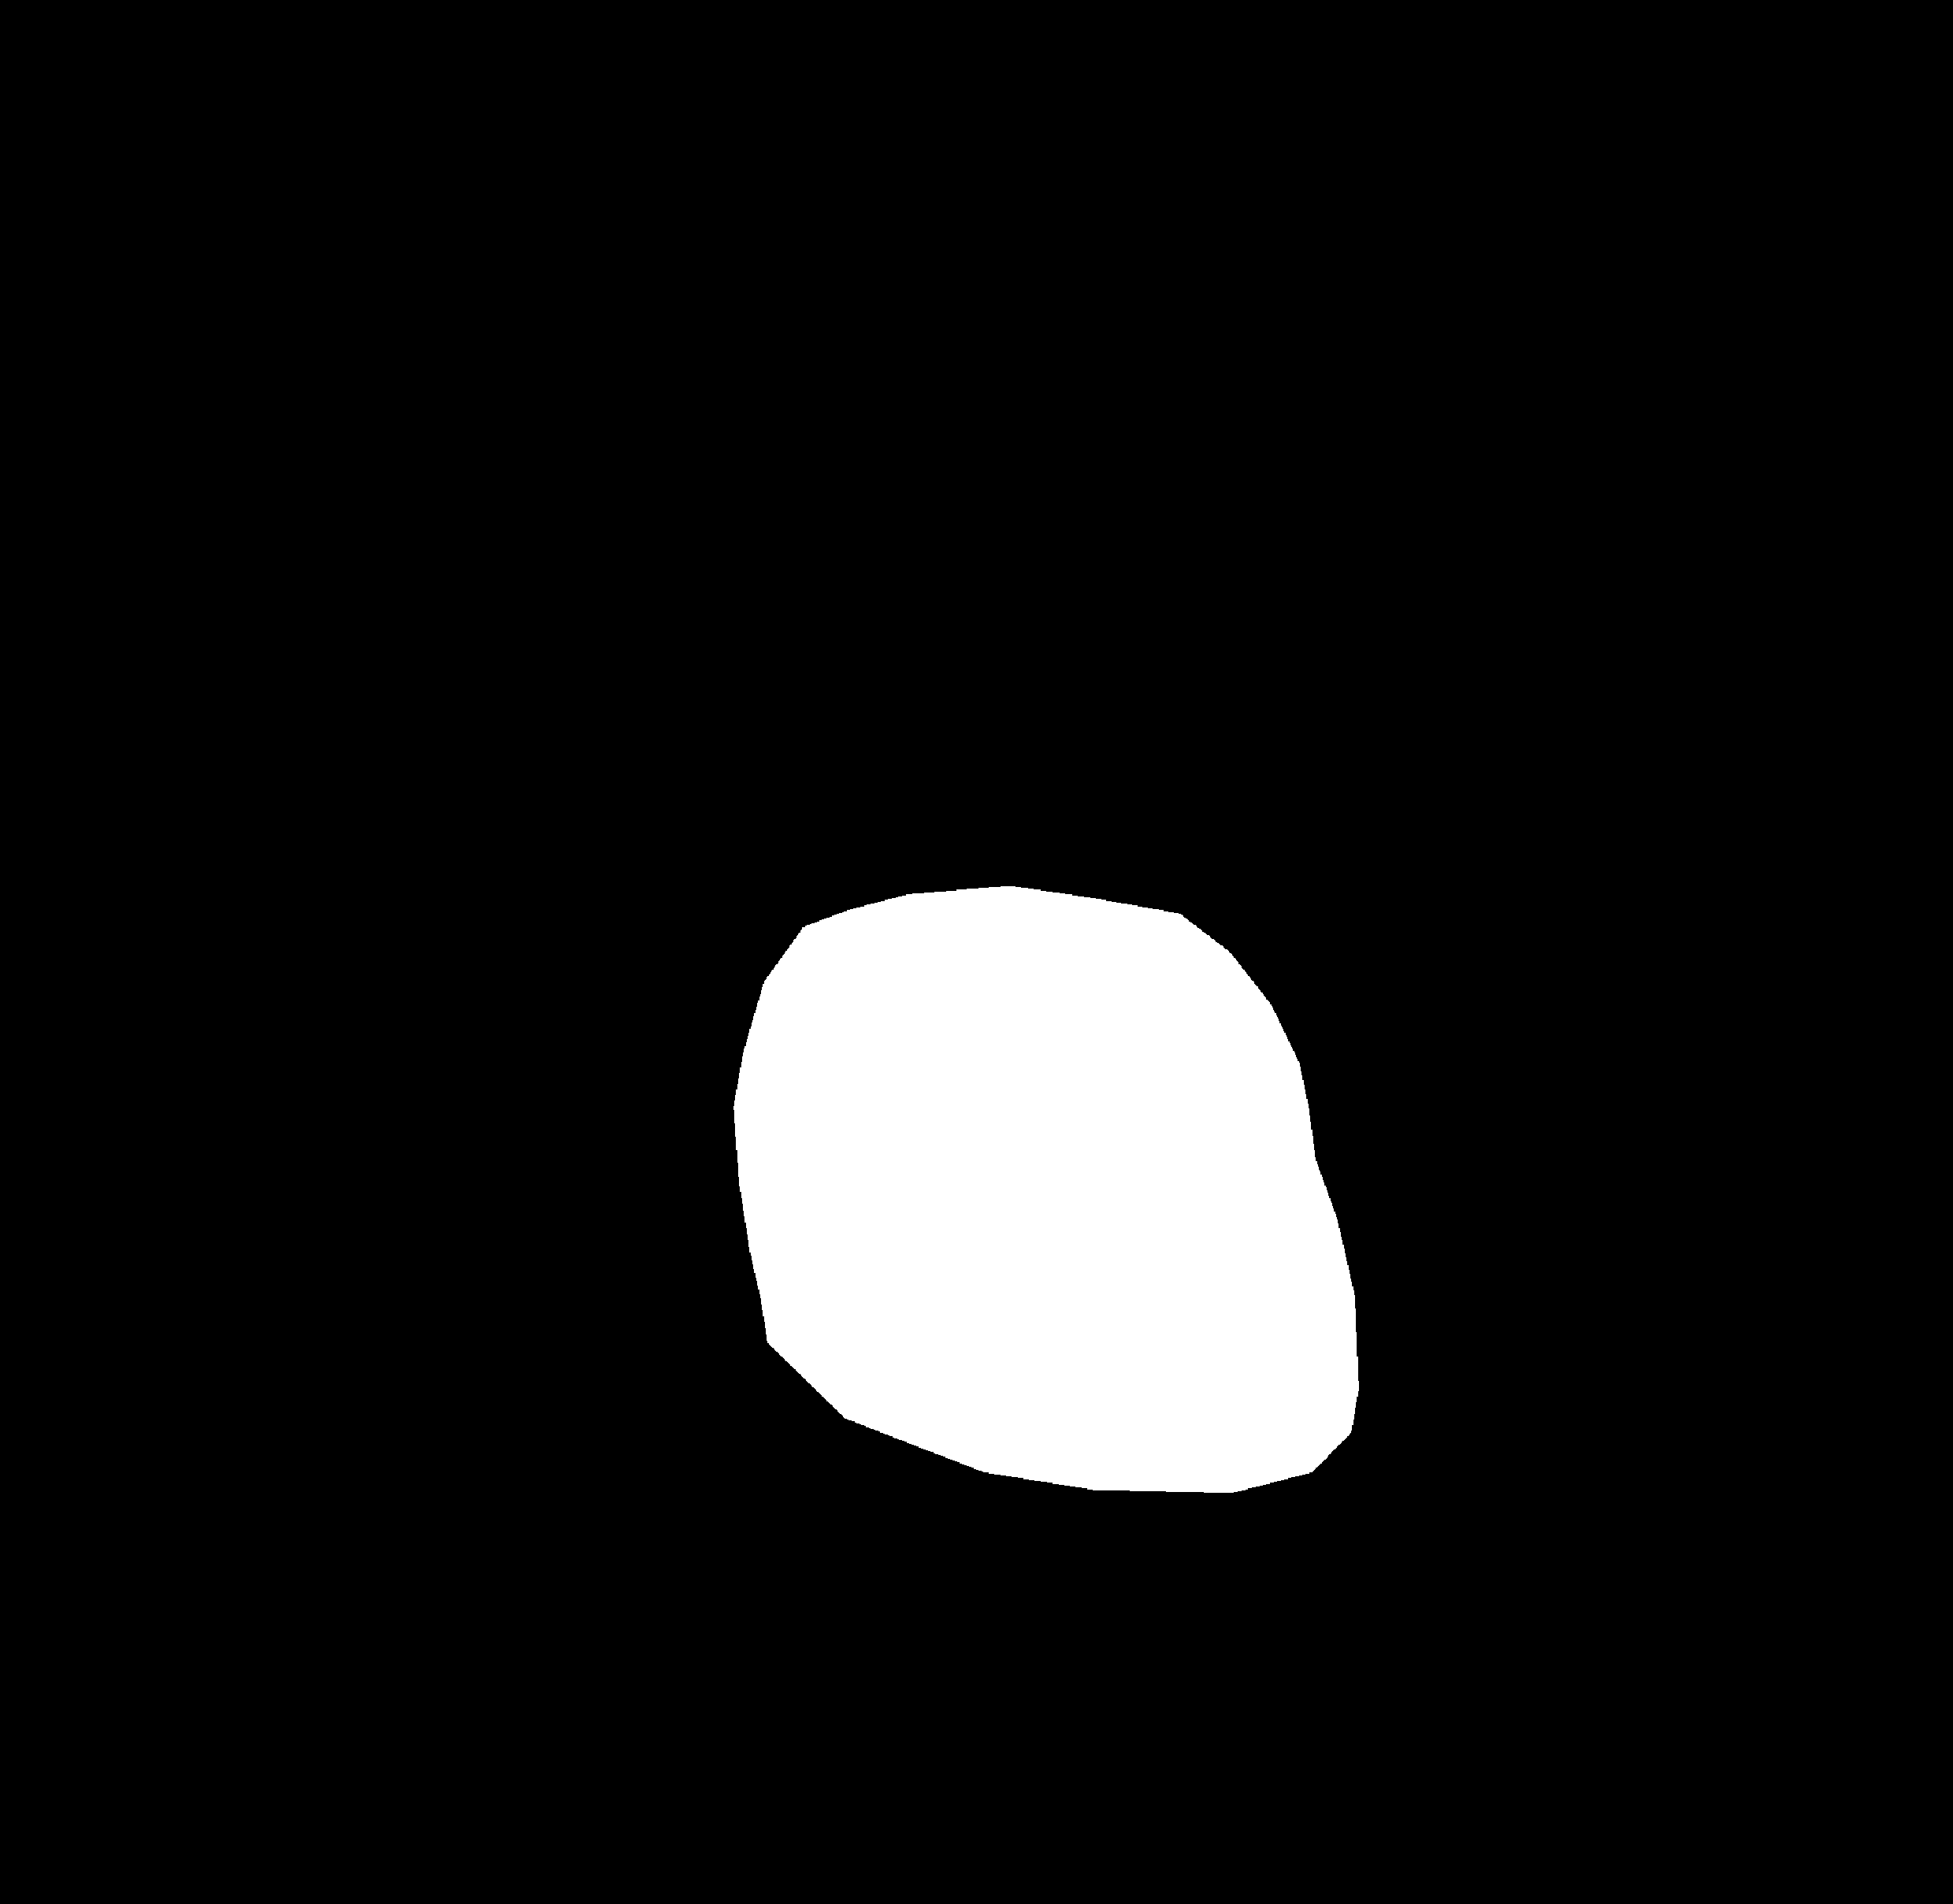heart: (727, 917, 1355, 1508)
left_lung: (241, 183, 861, 1705)
right_lung: (1039, 164, 1676, 1667)
